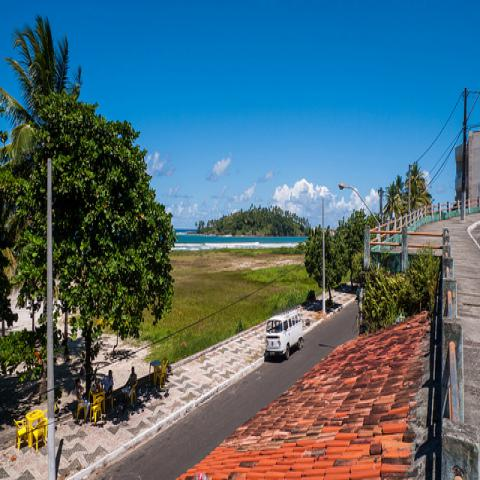bus: (264, 305, 305, 361)
